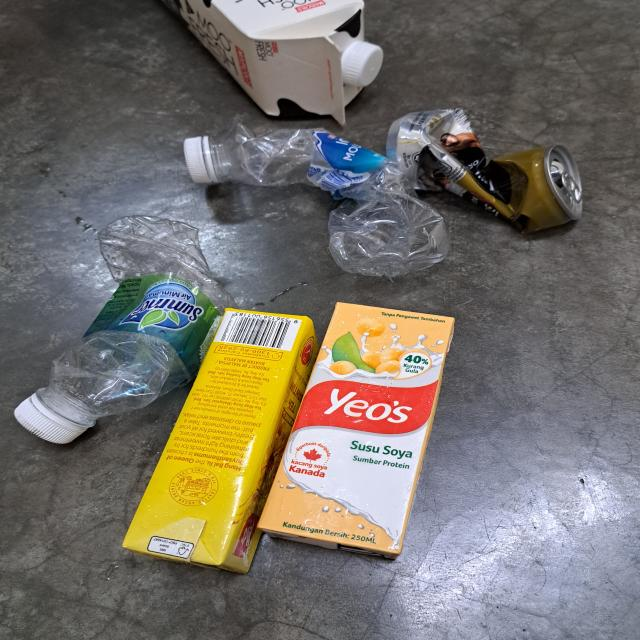can: (386, 106, 585, 236)
drink carton: (126, 306, 319, 570), (264, 300, 454, 559), (154, 0, 384, 125)
plastic bottle: (12, 212, 211, 444), (184, 125, 454, 280)
plastic bottle cap: (15, 389, 99, 445), (340, 43, 387, 88), (187, 134, 225, 184)
pop tab: (553, 164, 586, 211)
